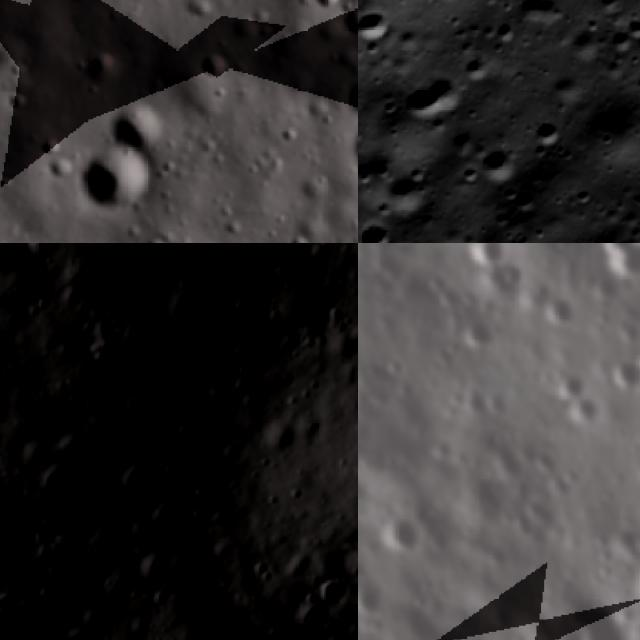crater: (64, 284, 212, 435), (148, 243, 264, 361), (388, 47, 479, 140), (75, 144, 154, 224), (466, 132, 534, 201), (121, 532, 189, 600), (377, 153, 445, 220), (24, 450, 90, 516), (100, 102, 168, 164), (108, 441, 170, 505), (553, 588, 627, 640), (0, 387, 34, 496), (138, 491, 196, 550), (303, 557, 358, 617), (138, 243, 203, 289), (520, 104, 574, 156), (358, 0, 404, 57), (380, 517, 425, 562), (11, 243, 78, 273), (456, 44, 501, 88), (599, 353, 640, 397), (602, 20, 640, 60), (604, 243, 640, 285), (358, 213, 408, 243), (330, 69, 358, 122), (545, 364, 591, 395), (82, 48, 120, 83), (192, 52, 230, 86), (330, 11, 358, 46), (589, 0, 635, 20), (177, 626, 236, 640), (623, 11, 640, 49), (629, 54, 640, 108)
